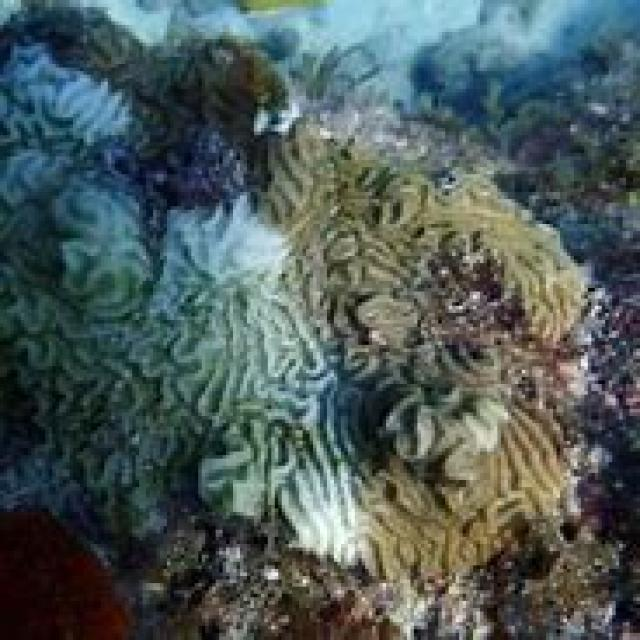Coral: (0, 0, 595, 580)
